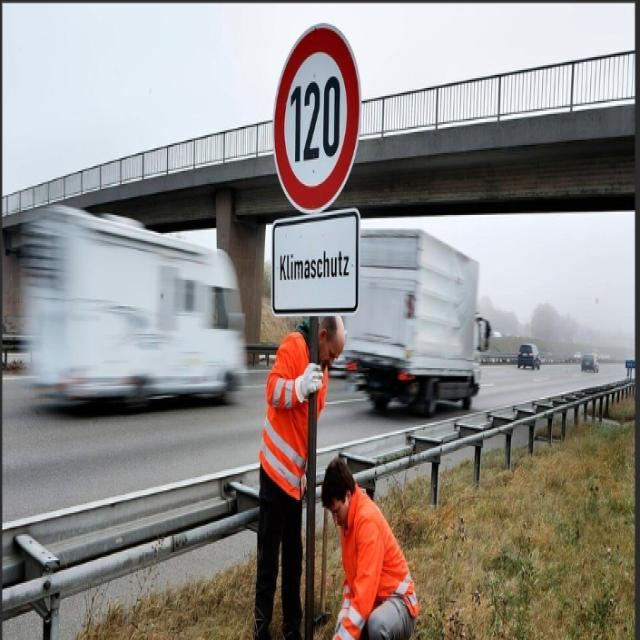forb_speed_over_120: (270, 21, 363, 216)
